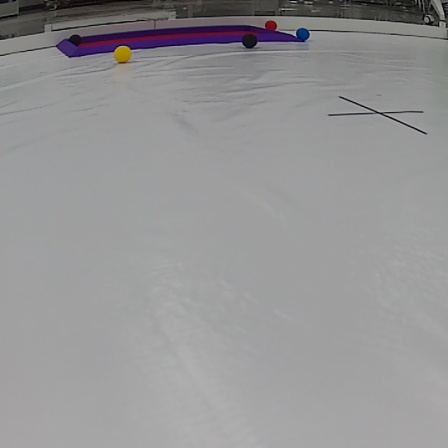black: (241, 30, 258, 50), (69, 34, 85, 47)
blue: (297, 26, 310, 40)
red: (263, 19, 280, 32)
red_aim: (51, 24, 311, 60)
yellow: (114, 46, 134, 64)
